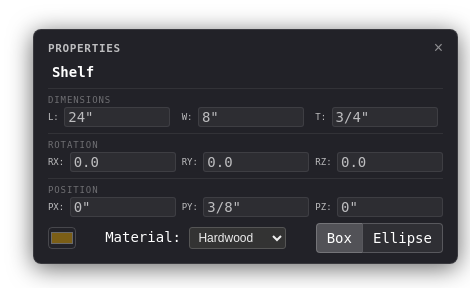
it: PartPanel › normalises decimal dimension input to fractional form on blur
This screenshot has width=470, height=288.
Replace the text in the field named "length" with "1.5" at (117, 117), box [64,107,170,127]
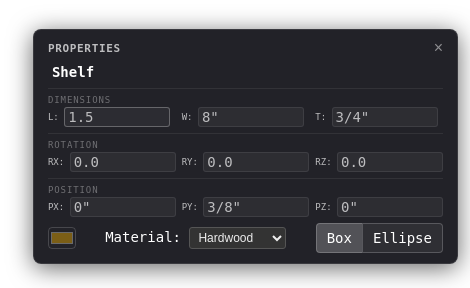
Press Tab
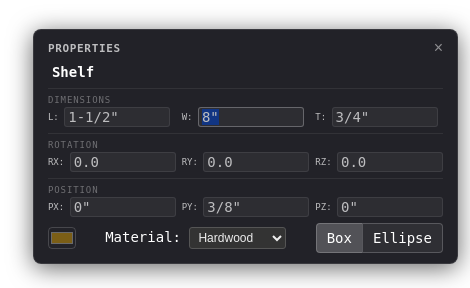
Expected: the field named "length" holds "1-1/2\"", [64,107,170,127]
